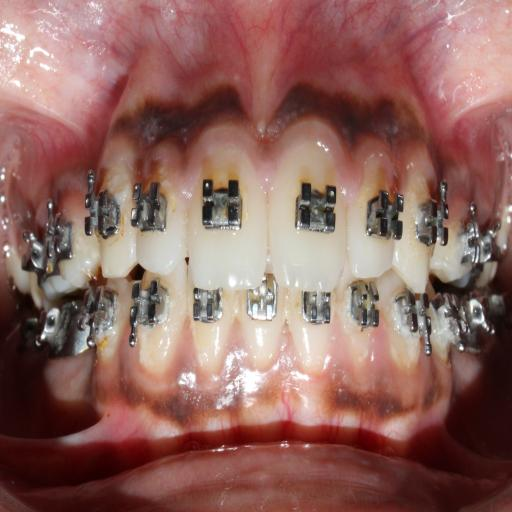correct_brace: (291, 179, 340, 237), (196, 172, 243, 230), (84, 179, 122, 242), (366, 185, 406, 244), (132, 178, 171, 232), (416, 197, 450, 249)
incorrect_brace: (348, 153, 397, 284), (138, 150, 189, 275)
